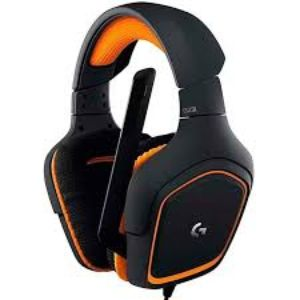headset: (20, 1, 268, 299)
